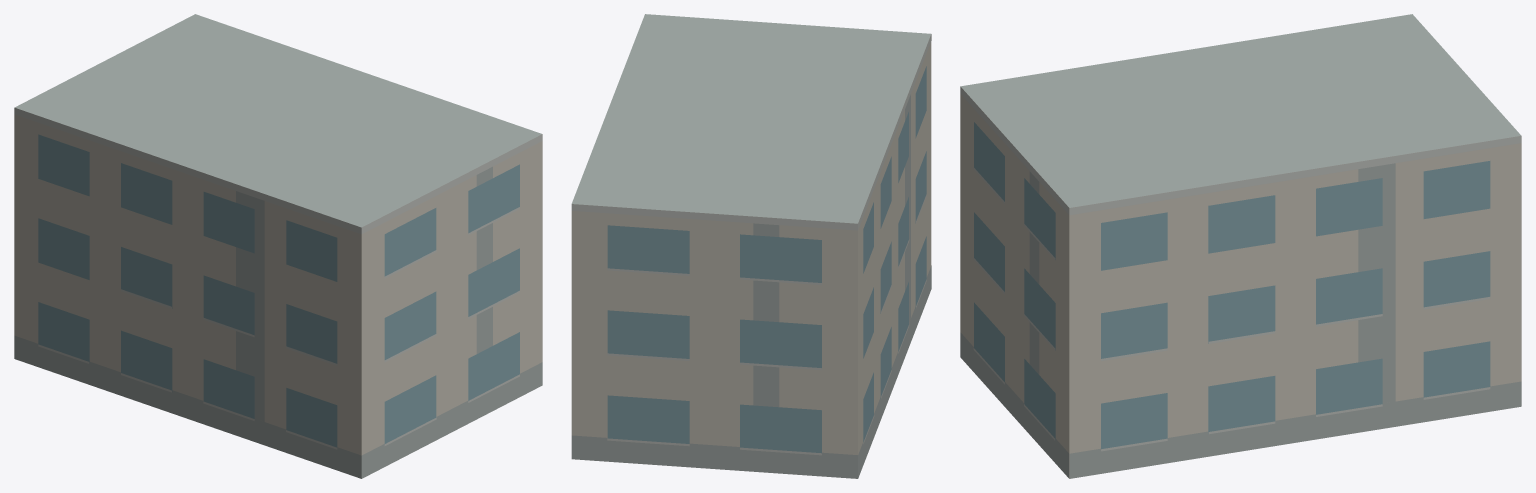
File: residential-4dfdef7b-8954-4e7b-8b73-bc5e8af97ffc.glb
The picture shows the model from 3 angles, left to right: view 1: azimuth 30°, elevation 25°; view 2: azimuth 150°, elevation 25°; view 3: azimuth 270°, elevation 25°; orthographic projection. The views are drawn at different scales.
Parts seen in each view (by area): view 1: residential-4dfdef7b-8954-4e7b-8b73-bc5e8af97ffc.tmp; view 2: residential-4dfdef7b-8954-4e7b-8b73-bc5e8af97ffc.tmp; view 3: residential-4dfdef7b-8954-4e7b-8b73-bc5e8af97ffc.tmp.
Part boxes in pixels (box(x1,y1,x2,y2)): residential-4dfdef7b-8954-4e7b-8b73-bc5e8af97ffc.tmp: box(14, 14, 542, 478); residential-4dfdef7b-8954-4e7b-8b73-bc5e8af97ffc.tmp: box(571, 14, 931, 478); residential-4dfdef7b-8954-4e7b-8b73-bc5e8af97ffc.tmp: box(960, 14, 1521, 478).
Bounding box in the file's own units: 13.83 × 9 × 16.91.
